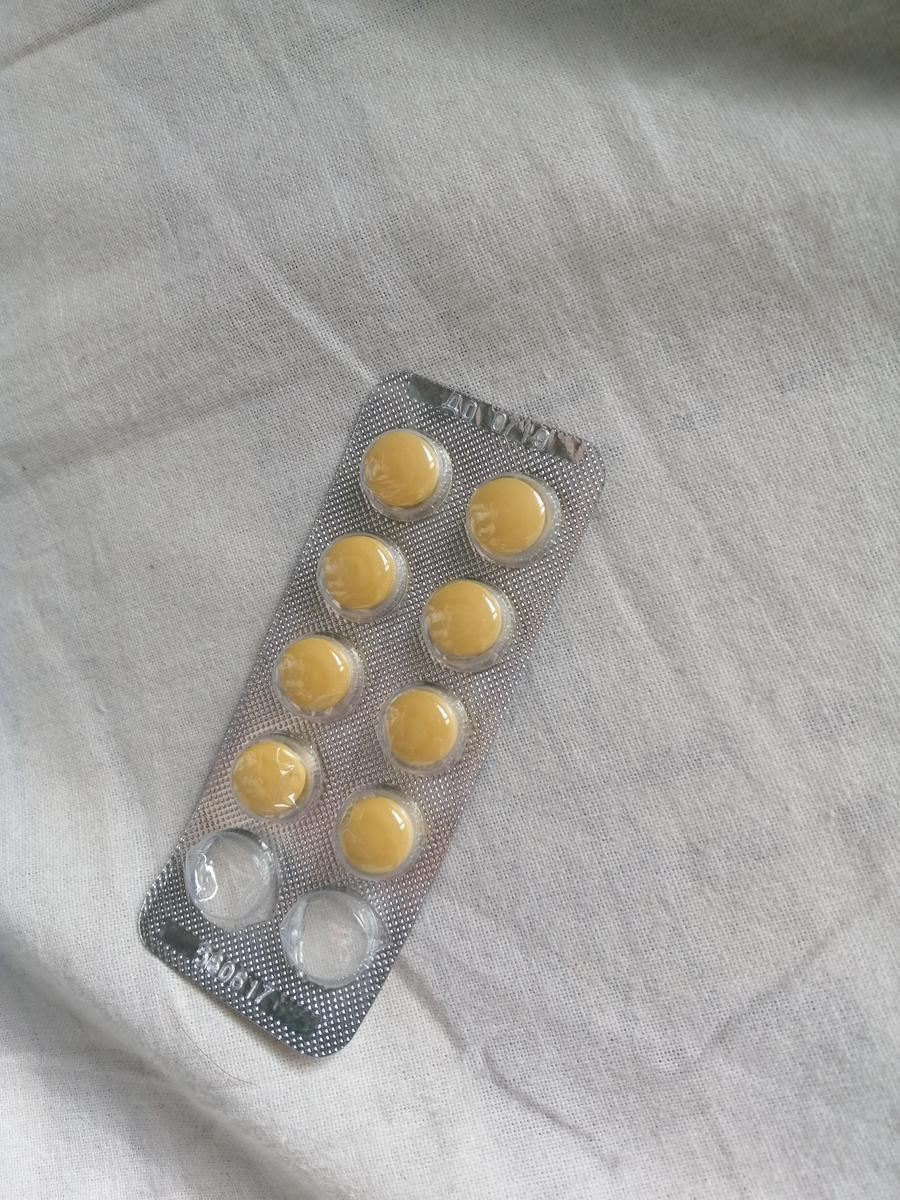tablet: (362, 428, 452, 512), (421, 578, 505, 662), (467, 476, 551, 559), (315, 532, 401, 613), (274, 632, 356, 716), (342, 790, 415, 878), (234, 737, 309, 821), (384, 688, 461, 768)
